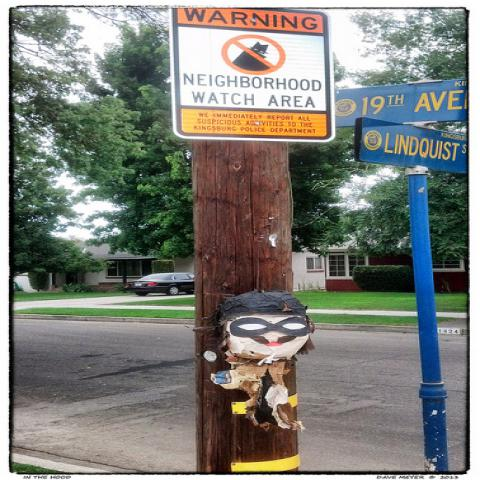car: (124, 272, 194, 296)
